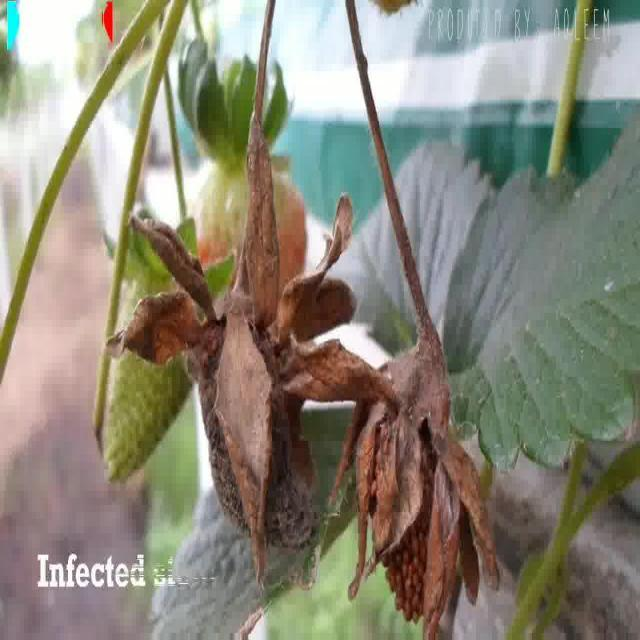Mancha negra Antracnosis: (183, 286, 331, 567), (352, 348, 497, 633)
